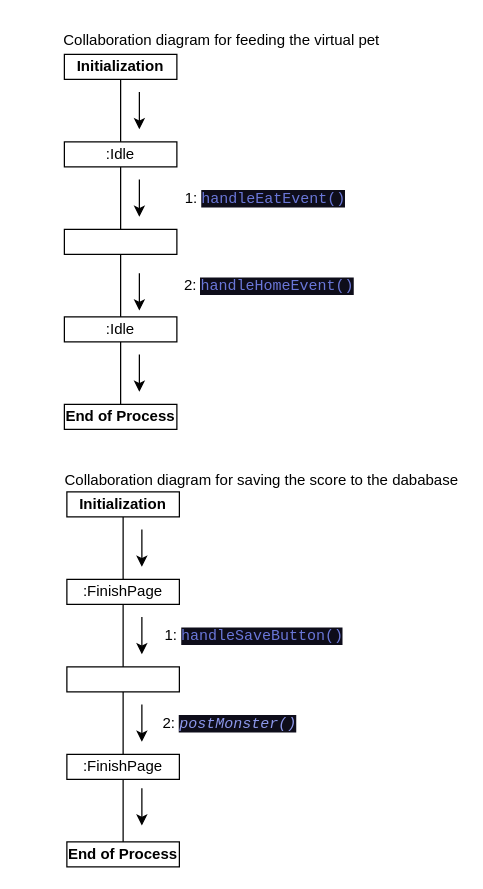
This 483x889 diagram has some shape labels left out. Here are the shapes that lost their labels. From the top down, the centre of each, then its label:
the point at 120,241: :Eat
the point at 122,679: :GameService
